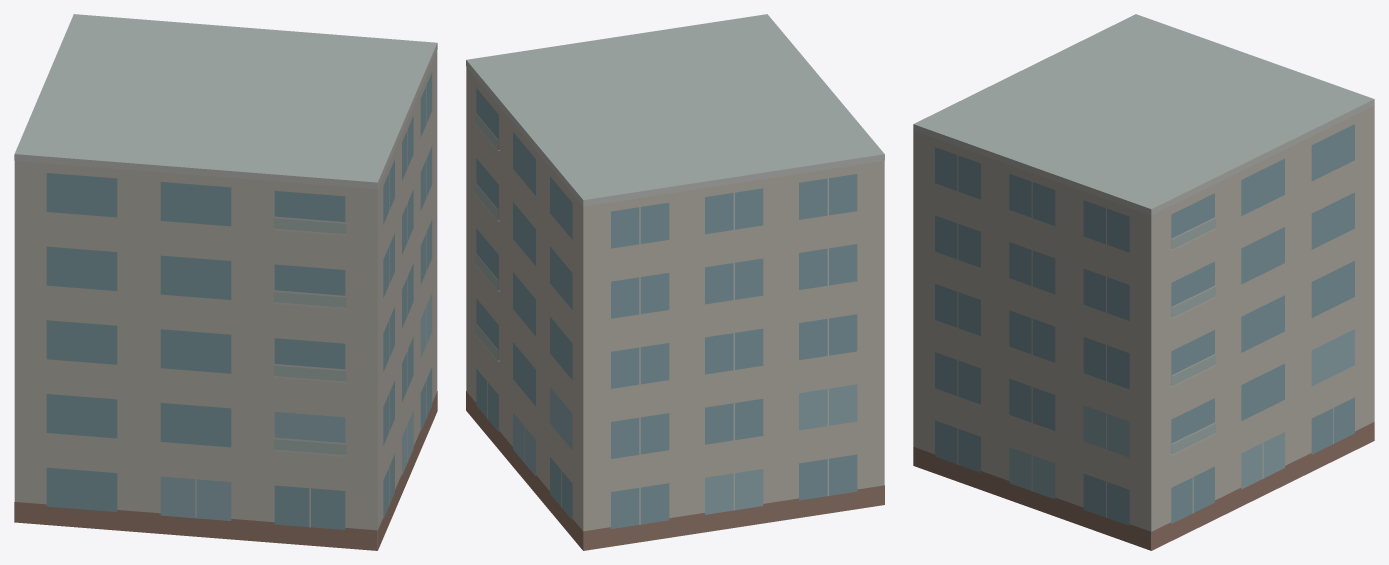
Rendered from survey-upis-32625653.glb.
3 views of the same model, side by side, from view 1: azimuth 30°, elevation 25°; view 2: azimuth 150°, elevation 25°; view 3: azimuth 270°, elevation 25° (orthographic). The views are drawn at different scales.
Visible parts, largest first — view 1: survey-upis-32625653.tmp; view 2: survey-upis-32625653.tmp; view 3: survey-upis-32625653.tmp.
Part boxes in pixels (left/top/right/bottom): survey-upis-32625653.tmp: left=14, top=14, right=437, bottom=550; survey-upis-32625653.tmp: left=466, top=14, right=884, bottom=550; survey-upis-32625653.tmp: left=913, top=14, right=1374, bottom=550.
Bounding box in the file's own units: 16.31 × 13.3 × 16.28.
